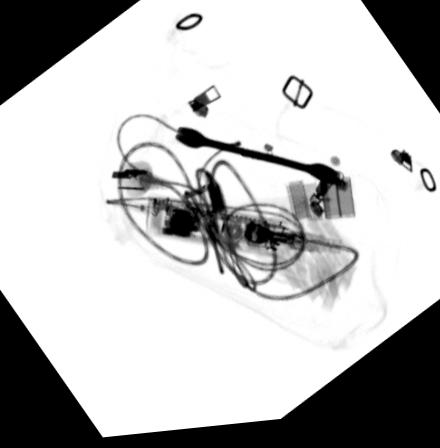Wrench: (173, 130, 344, 194)
